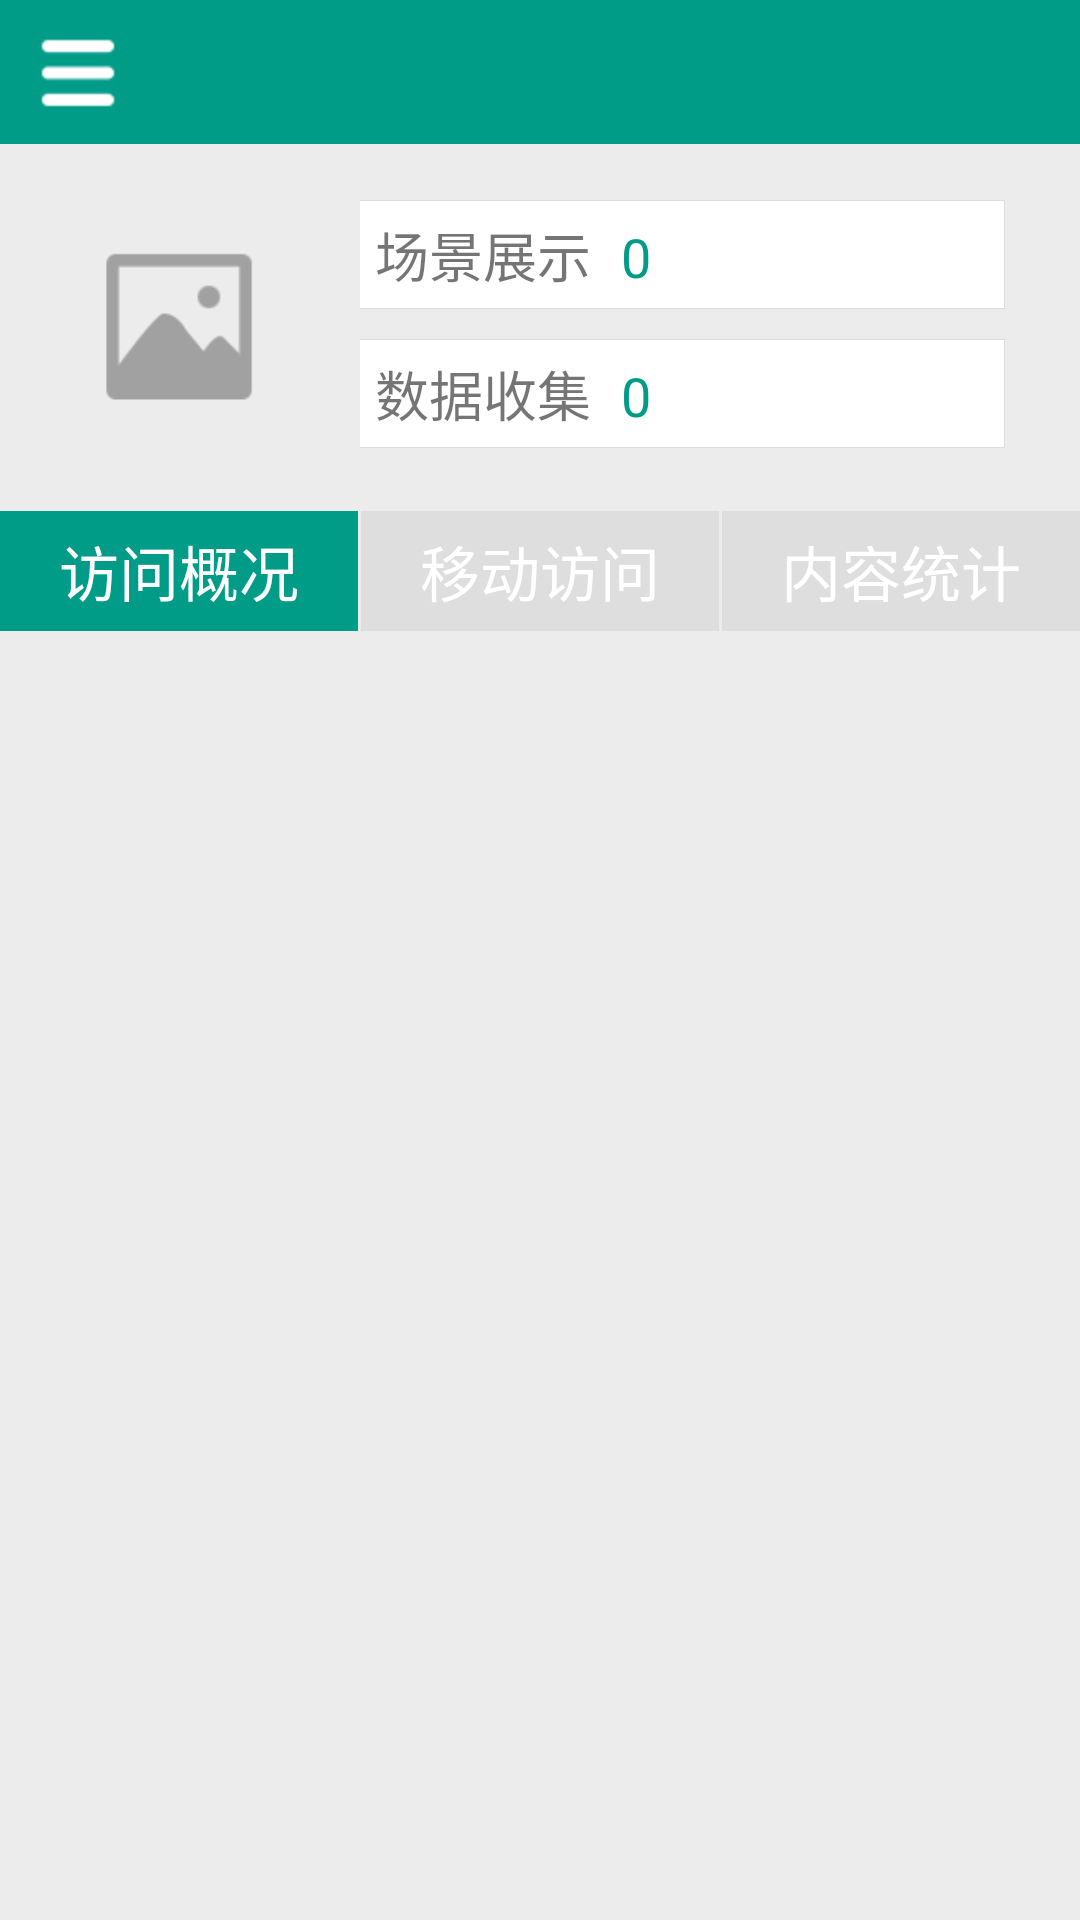

Where to tap for icons on this 1080x1920 app screen, as point (x, y):
menu: point (78, 73)
